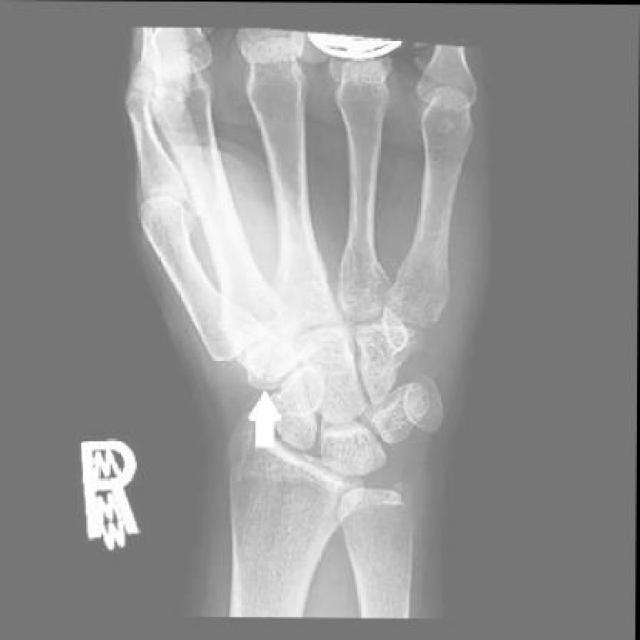Fracture: (248, 334, 295, 381)
